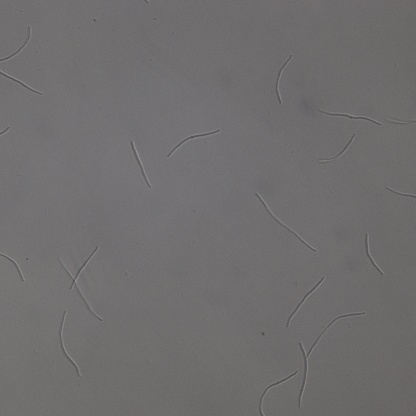Sensitive: (298, 312, 364, 405), (257, 193, 316, 249), (59, 247, 102, 320), (287, 276, 324, 325), (259, 370, 298, 416), (167, 128, 220, 155), (58, 311, 79, 375), (319, 133, 355, 163), (275, 55, 296, 104), (1, 28, 30, 63), (1, 71, 43, 95), (318, 109, 380, 125), (130, 139, 150, 186), (364, 232, 382, 274), (1, 251, 24, 279), (387, 186, 416, 200)
